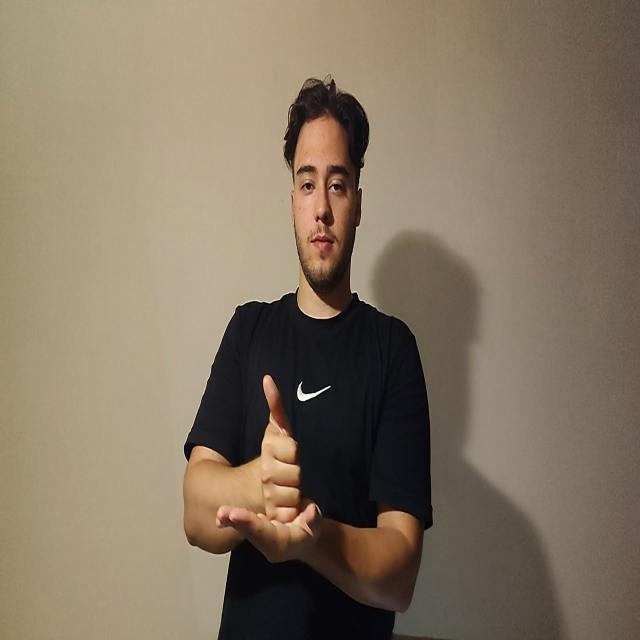help: (218, 378, 324, 561)
